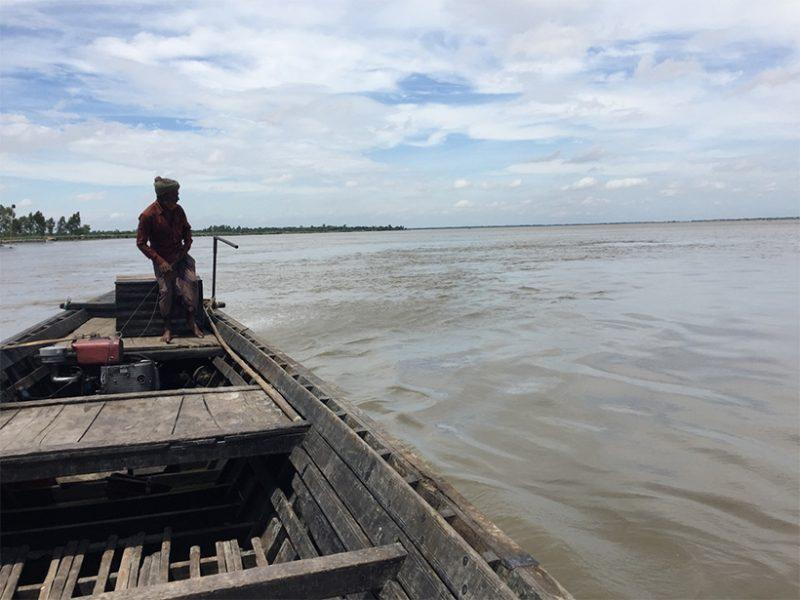victim: (130, 172, 222, 350)
